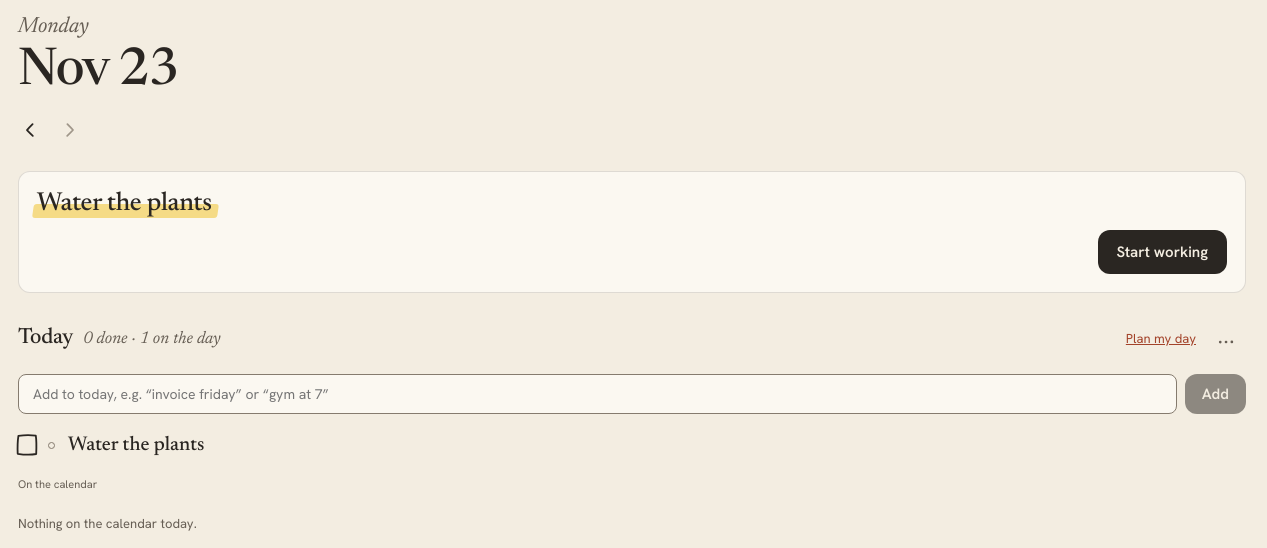
it: <TodayView> under Field notes › brings the ⋯ menu into view as it opens, since the pane scrolls
Click the button named "More actions" at (1226,339), box x1=1206 y1=319 x2=1246 y2=359
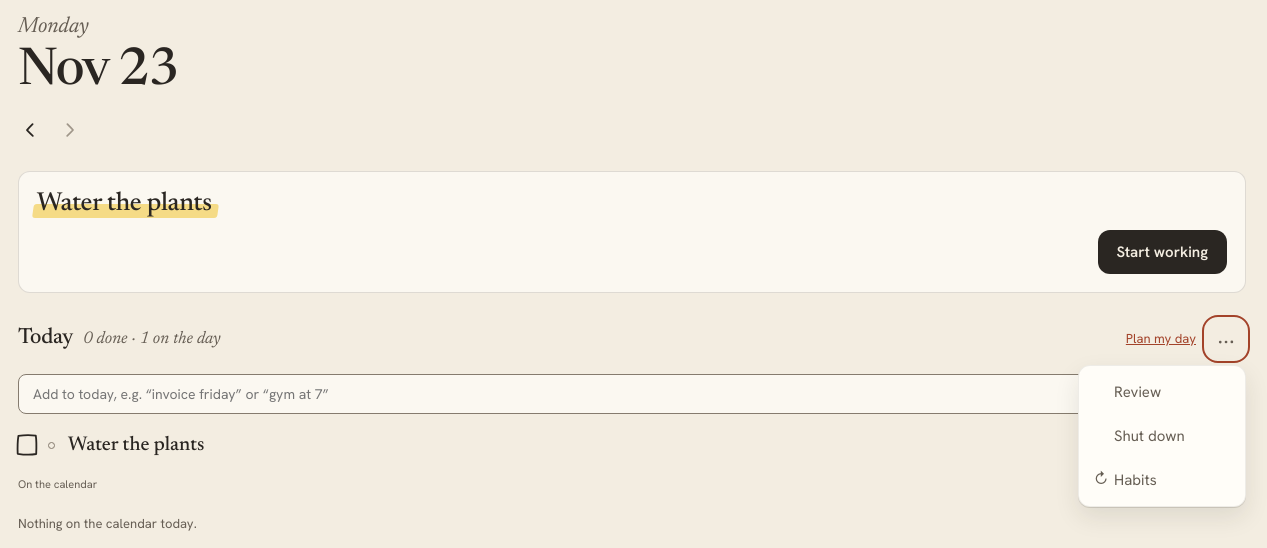
Result: the button "Review" is shown at x1=1083 y1=370 x2=1241 y2=414
